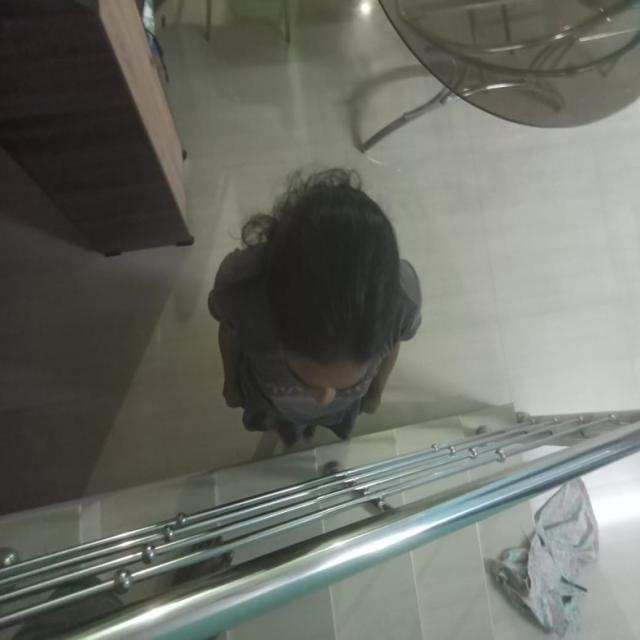humans: (200, 166, 432, 446)
